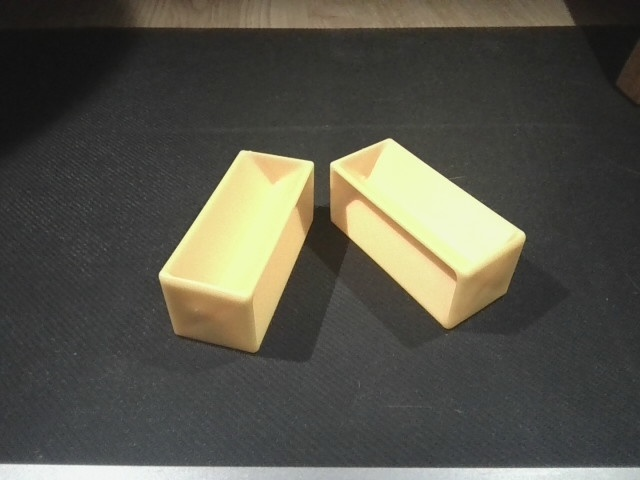YellowSample: (325, 137, 526, 329), (156, 148, 318, 354)
